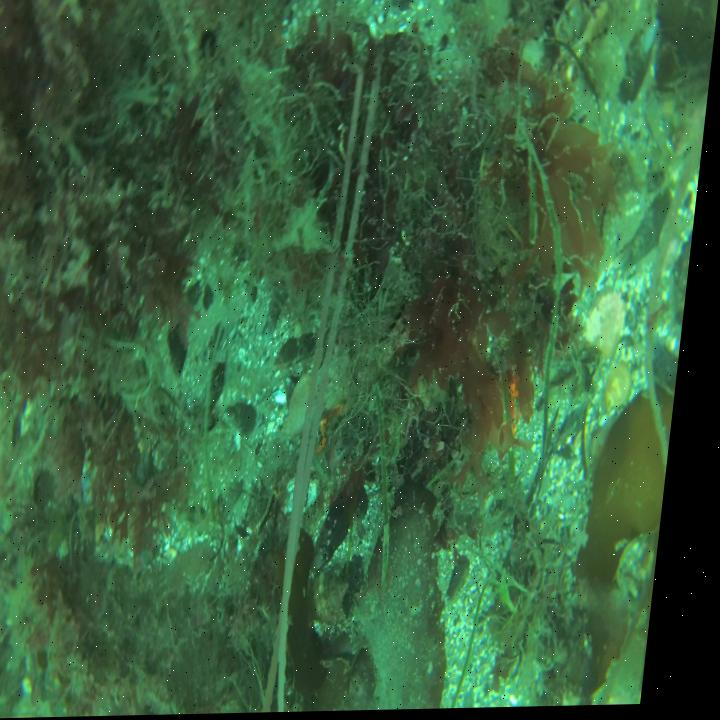scallop: (586, 285, 638, 366), (605, 359, 649, 421)
